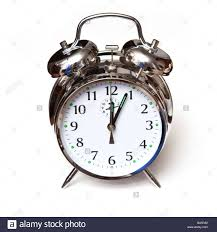alarm_clock: (44, 10, 171, 186)
